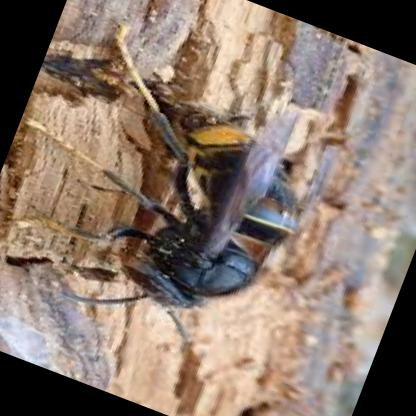asian: (0, 24, 355, 380)
